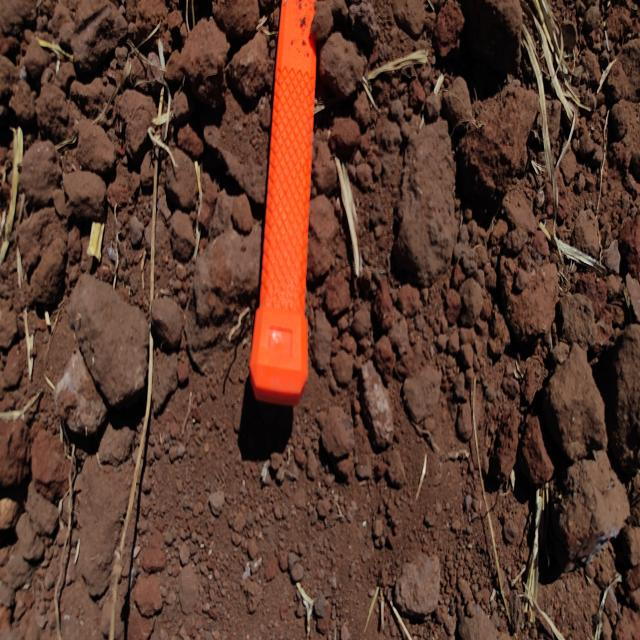Orange_hammer: (248, 0, 318, 407)
rock: (64, 262, 151, 404), (396, 118, 458, 309), (546, 341, 610, 454), (458, 0, 530, 72), (175, 14, 231, 96), (390, 545, 445, 617), (25, 428, 73, 498), (21, 138, 63, 215), (322, 32, 368, 102)
